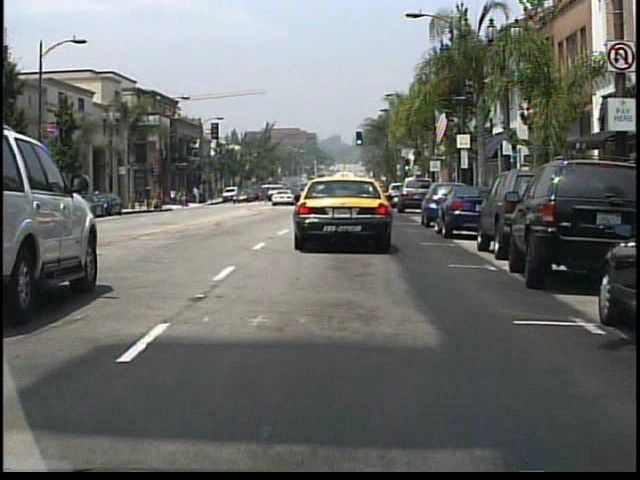person: (189, 189, 198, 209)
